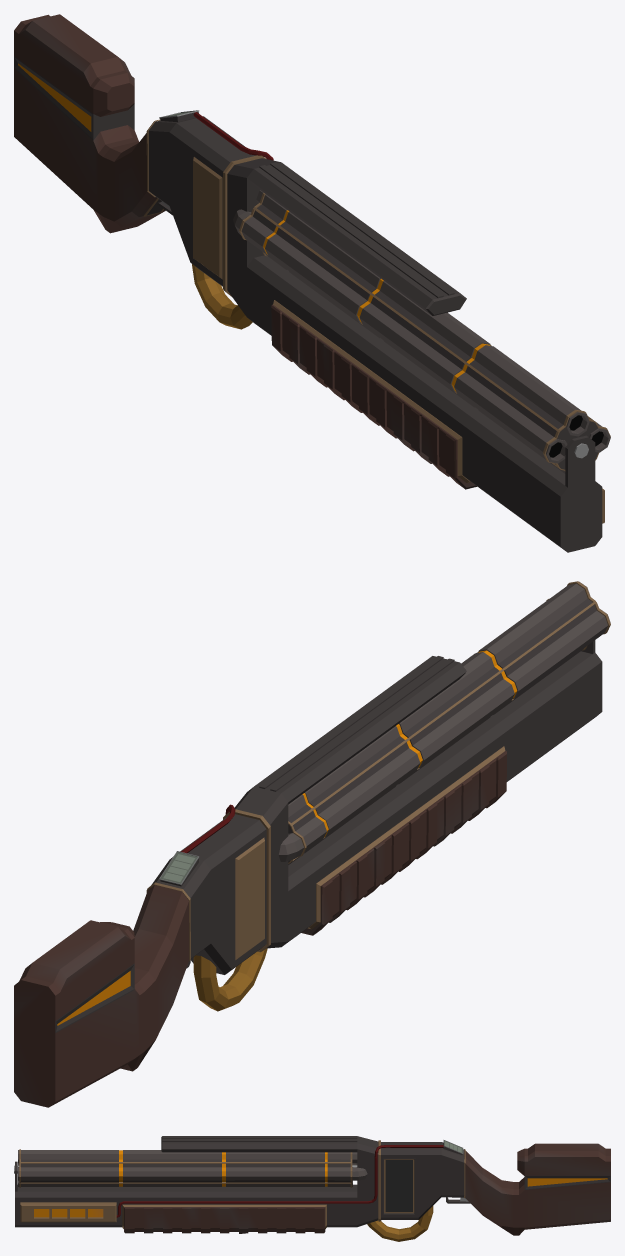
The picture shows the model from 3 angles, top to bottom: view 1: azimuth 30°, elevation 25°; view 2: azimuth 150°, elevation 25°; view 3: azimuth 270°, elevation 25°; orthographic projection. The views are drawn at different scales.
Visible parts, largest first — view 1: Cube.006, Cube.005; view 2: Cube.006, Cube.005; view 3: Cube.006, Cube.005.
Boxes of the visible parts, x1=… form: Cube.006: x1=14, y1=14, x2=604, y2=552; Cube.005: x1=239, y1=193, x2=610, y2=473; Cube.006: x1=14, y1=640, x2=602, y2=1107; Cube.005: x1=288, y1=581, x2=610, y2=864; Cube.006: x1=14, y1=1136, x2=610, y2=1241; Cube.005: x1=18, y1=1149, x2=352, y2=1187.
Size of the model in its own units: 3.2 by 8.68 by 45.75.
